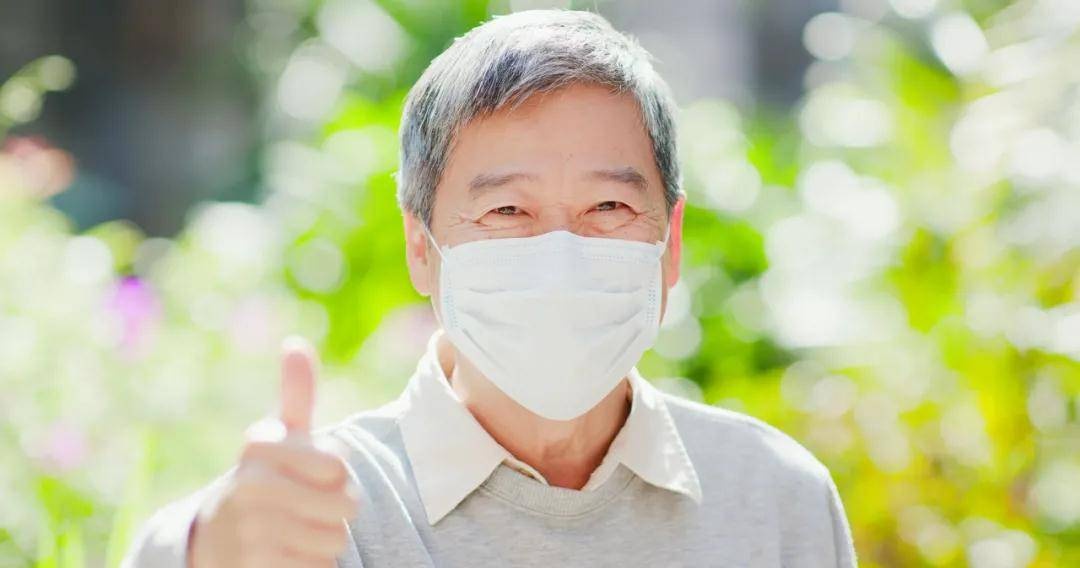mask: (411, 95, 680, 412)
